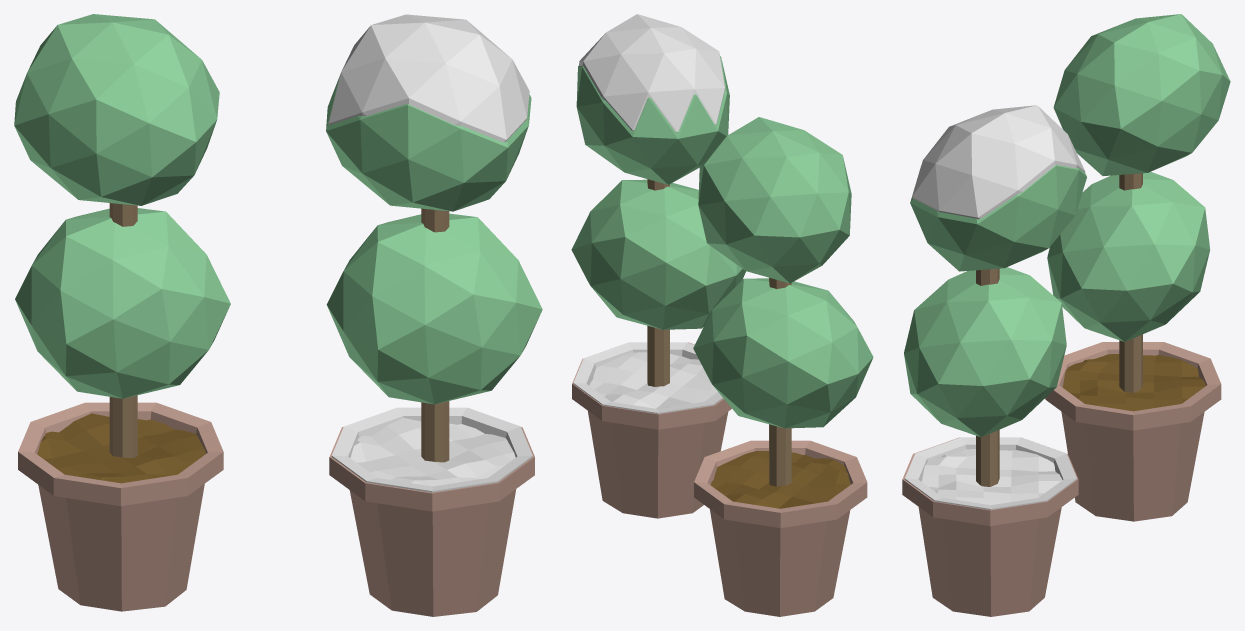
File: Tall Potted Plant.fbx
3 views of the same model, side by side, from view 1: azimuth 30°, elevation 25°; view 2: azimuth 150°, elevation 25°; view 3: azimuth 270°, elevation 25° (orthographic). The views are drawn at different scales.
Parts seen in each view (by area): view 1: snow_tall_potted_plant, tall_potted_plant; view 2: tall_potted_plant, snow_tall_potted_plant; view 3: snow_tall_potted_plant, tall_potted_plant.
Boxes of the visible parts, x1=… form: snow_tall_potted_plant: x1=326, y1=14, x2=542, y2=616; tall_potted_plant: x1=14, y1=14, x2=230, y2=611; tall_potted_plant: x1=693, y1=117, x2=873, y2=616; snow_tall_potted_plant: x1=571, y1=14, x2=746, y2=518; snow_tall_potted_plant: x1=902, y1=105, x2=1086, y2=616; tall_potted_plant: x1=1045, y1=14, x2=1230, y2=521.
Bounding box in the file's own units: 6.38 × 8.33 × 5.15.
